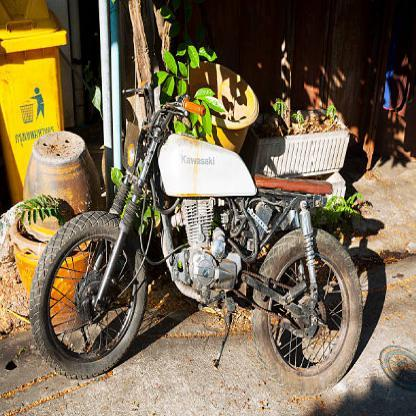Motorcycle: (26, 73, 365, 402)
